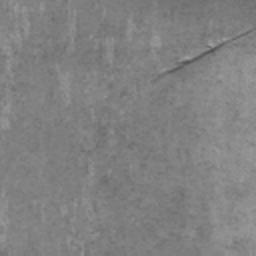Finishing roll printing: (152, 28, 253, 82)
